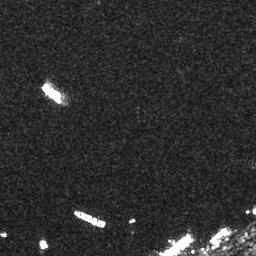ship: (153, 224, 196, 256), (73, 208, 107, 229), (39, 81, 66, 106), (209, 224, 228, 245), (35, 238, 51, 249), (1, 232, 9, 237)
